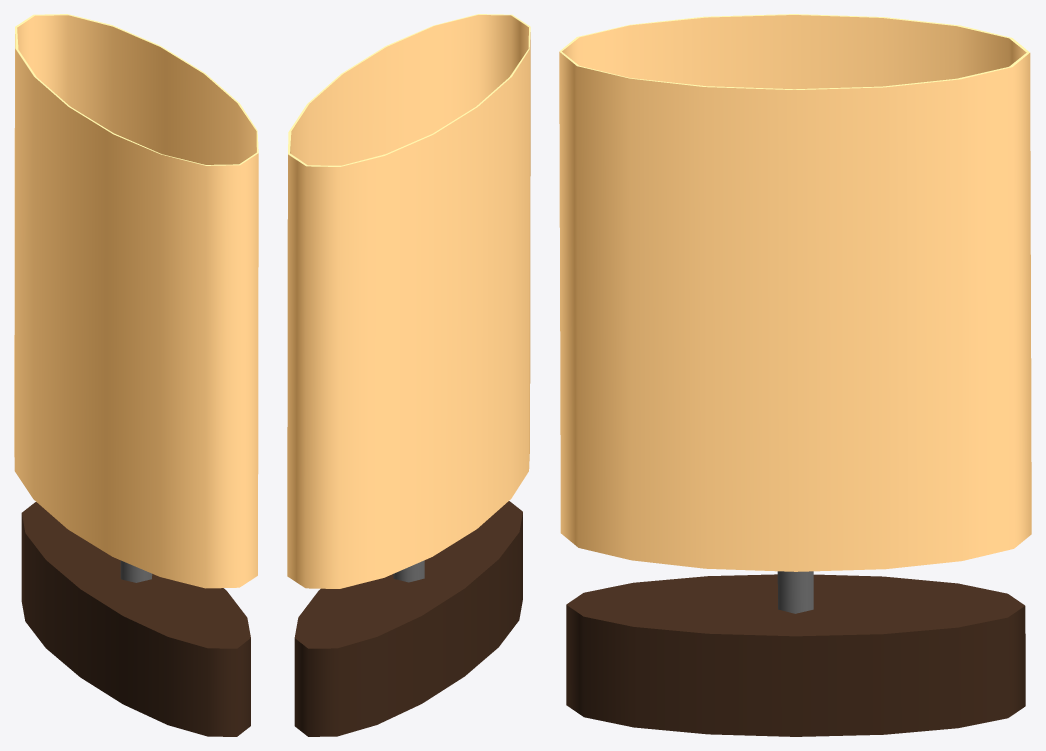
The model's file is Table_Lamp_EllipticalBase_EllipticalShade.fbx.
3 views of the same model, side by side, from view 1: azimuth 30°, elevation 25°; view 2: azimuth 150°, elevation 25°; view 3: azimuth 270°, elevation 25° (orthographic). The views are drawn at different scales.
Parts seen in each view (by area): view 1: Table_Lamp_EllipticalBase_EllipticalShade; view 2: Table_Lamp_EllipticalBase_EllipticalShade; view 3: Table_Lamp_EllipticalBase_EllipticalShade.
Boxes of the visible parts, left/top/right/bottom form: Table_Lamp_EllipticalBase_EllipticalShade: left=14, top=14, right=258, bottom=736; Table_Lamp_EllipticalBase_EllipticalShade: left=287, top=14, right=530, bottom=736; Table_Lamp_EllipticalBase_EllipticalShade: left=559, top=14, right=1031, bottom=736.
Size of the model in its own units: 11.77 by 47.19 by 30.86.
